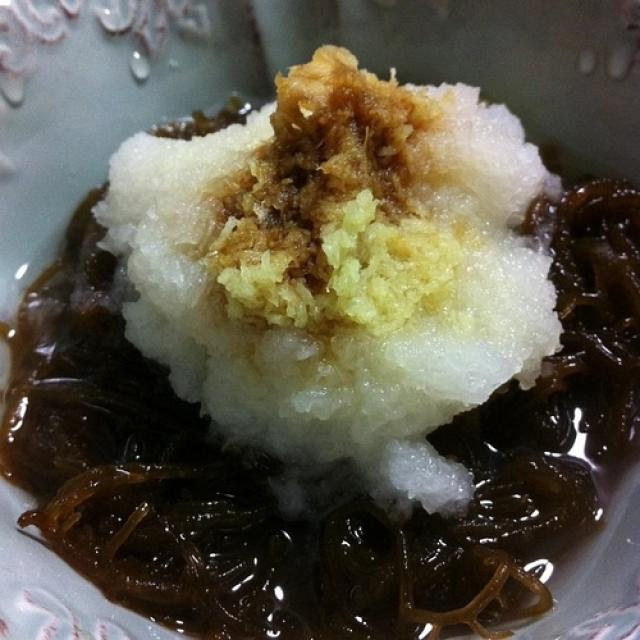蔬菜料理: (27, 32, 613, 634)
